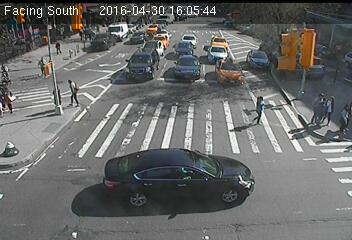neg: (211, 153, 248, 203), (12, 133, 39, 169), (82, 38, 107, 71), (129, 51, 148, 76), (150, 164, 167, 186)
pos: (309, 88, 336, 125), (249, 93, 273, 124), (333, 98, 351, 135), (63, 76, 83, 102), (30, 53, 47, 76), (52, 36, 64, 52)
